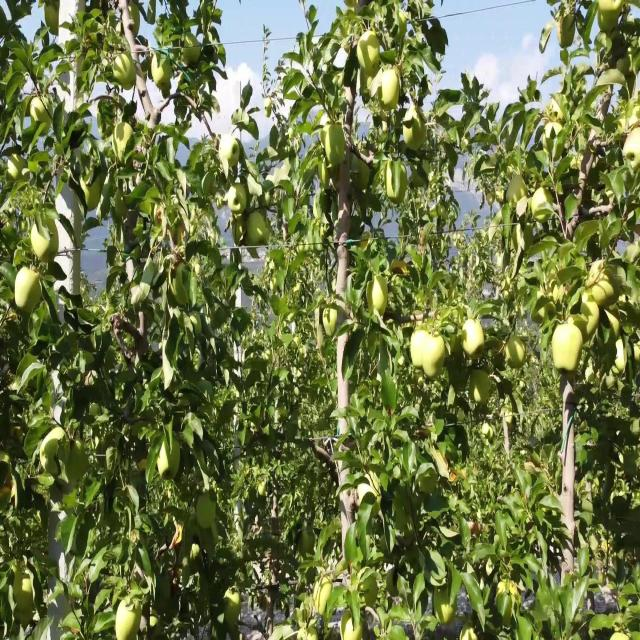apple: (552, 319, 583, 377), (568, 291, 600, 343), (588, 263, 619, 308), (16, 270, 44, 315), (32, 220, 60, 265), (580, 291, 601, 345), (424, 334, 447, 382), (420, 334, 444, 380), (112, 49, 137, 92), (404, 113, 428, 155), (388, 163, 409, 208), (160, 440, 181, 484), (532, 184, 555, 224), (12, 568, 35, 608), (380, 71, 401, 114), (368, 277, 390, 318), (464, 319, 485, 361), (248, 213, 272, 249), (360, 35, 381, 76), (116, 604, 140, 639), (196, 490, 217, 528), (472, 369, 494, 405), (596, 7, 623, 36), (328, 127, 348, 165), (412, 327, 429, 370), (624, 127, 640, 172), (508, 334, 527, 370), (616, 49, 635, 82), (228, 184, 248, 215), (316, 583, 333, 619), (184, 35, 202, 69), (352, 163, 371, 194), (220, 142, 240, 171), (560, 14, 576, 50), (612, 341, 628, 377), (452, 362, 470, 393), (224, 590, 241, 622), (344, 611, 364, 638), (512, 177, 528, 210), (84, 184, 102, 212), (324, 305, 339, 338), (44, 7, 61, 36), (608, 312, 623, 343), (440, 597, 456, 626), (336, 163, 351, 192), (232, 213, 247, 242), (412, 163, 428, 190), (448, 334, 464, 359), (300, 533, 316, 555), (324, 163, 338, 188), (508, 583, 520, 610), (192, 547, 204, 574), (468, 519, 483, 539), (172, 526, 184, 549), (136, 334, 148, 357), (320, 163, 331, 188), (228, 618, 240, 639), (496, 184, 505, 206), (464, 625, 478, 639), (228, 625, 240, 639), (260, 483, 268, 498), (488, 191, 496, 206), (636, 341, 640, 366)
